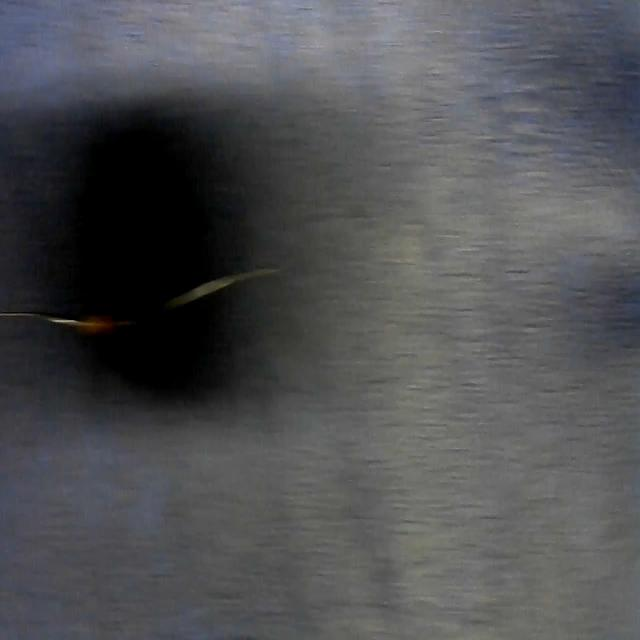resistor: (0, 260, 281, 332)
